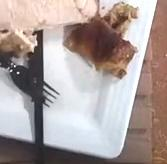pizza_crust: (64, 19, 137, 78)
